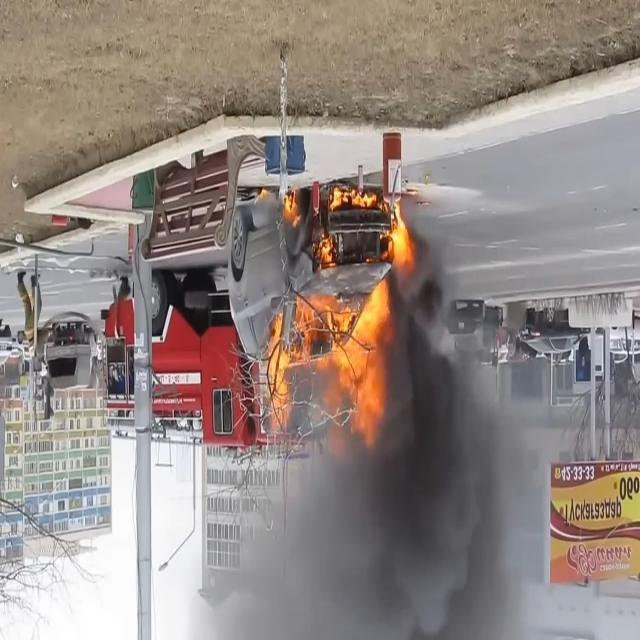fire: (266, 172, 419, 464)
